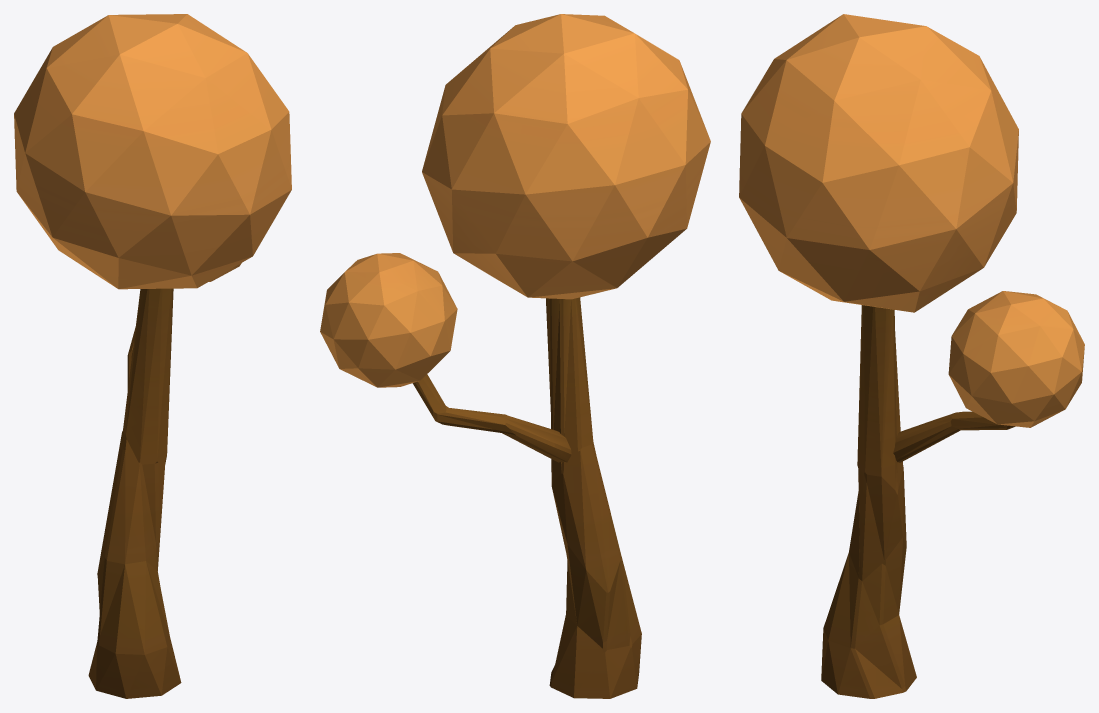
The model's file is tree_sapling.glb.
The picture shows the model from 3 angles, left to right: view 1: azimuth 30°, elevation 25°; view 2: azimuth 150°, elevation 25°; view 3: azimuth 270°, elevation 25°; orthographic projection.
Parts seen in each view (by area): view 1: Poplar Tree_2_AA; view 2: Poplar Tree_2_AA; view 3: Poplar Tree_2_AA.
Part boxes in pixels (<box>): Poplar Tree_2_AA: <box>14,14,291,698</box>; Poplar Tree_2_AA: <box>320,14,710,698</box>; Poplar Tree_2_AA: <box>739,14,1084,698</box>.
Bounding box in the file's own units: 0.7433 × 1.59 × 0.7546.
Materials: 1 (1 with a texture image).
